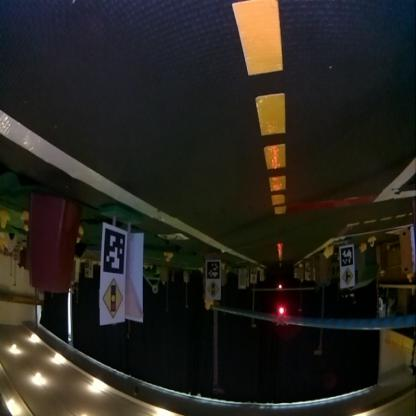Duckie: (78, 226, 83, 240), (369, 237, 375, 247), (204, 302, 210, 310), (326, 248, 332, 256)
Intersection sign: (342, 269, 352, 287)
QR code: (102, 230, 124, 274), (340, 247, 352, 266), (158, 234, 186, 242), (206, 262, 218, 278)
Signal sign: (102, 280, 122, 320), (206, 282, 218, 298)
Traffic light: (277, 306, 285, 324)
